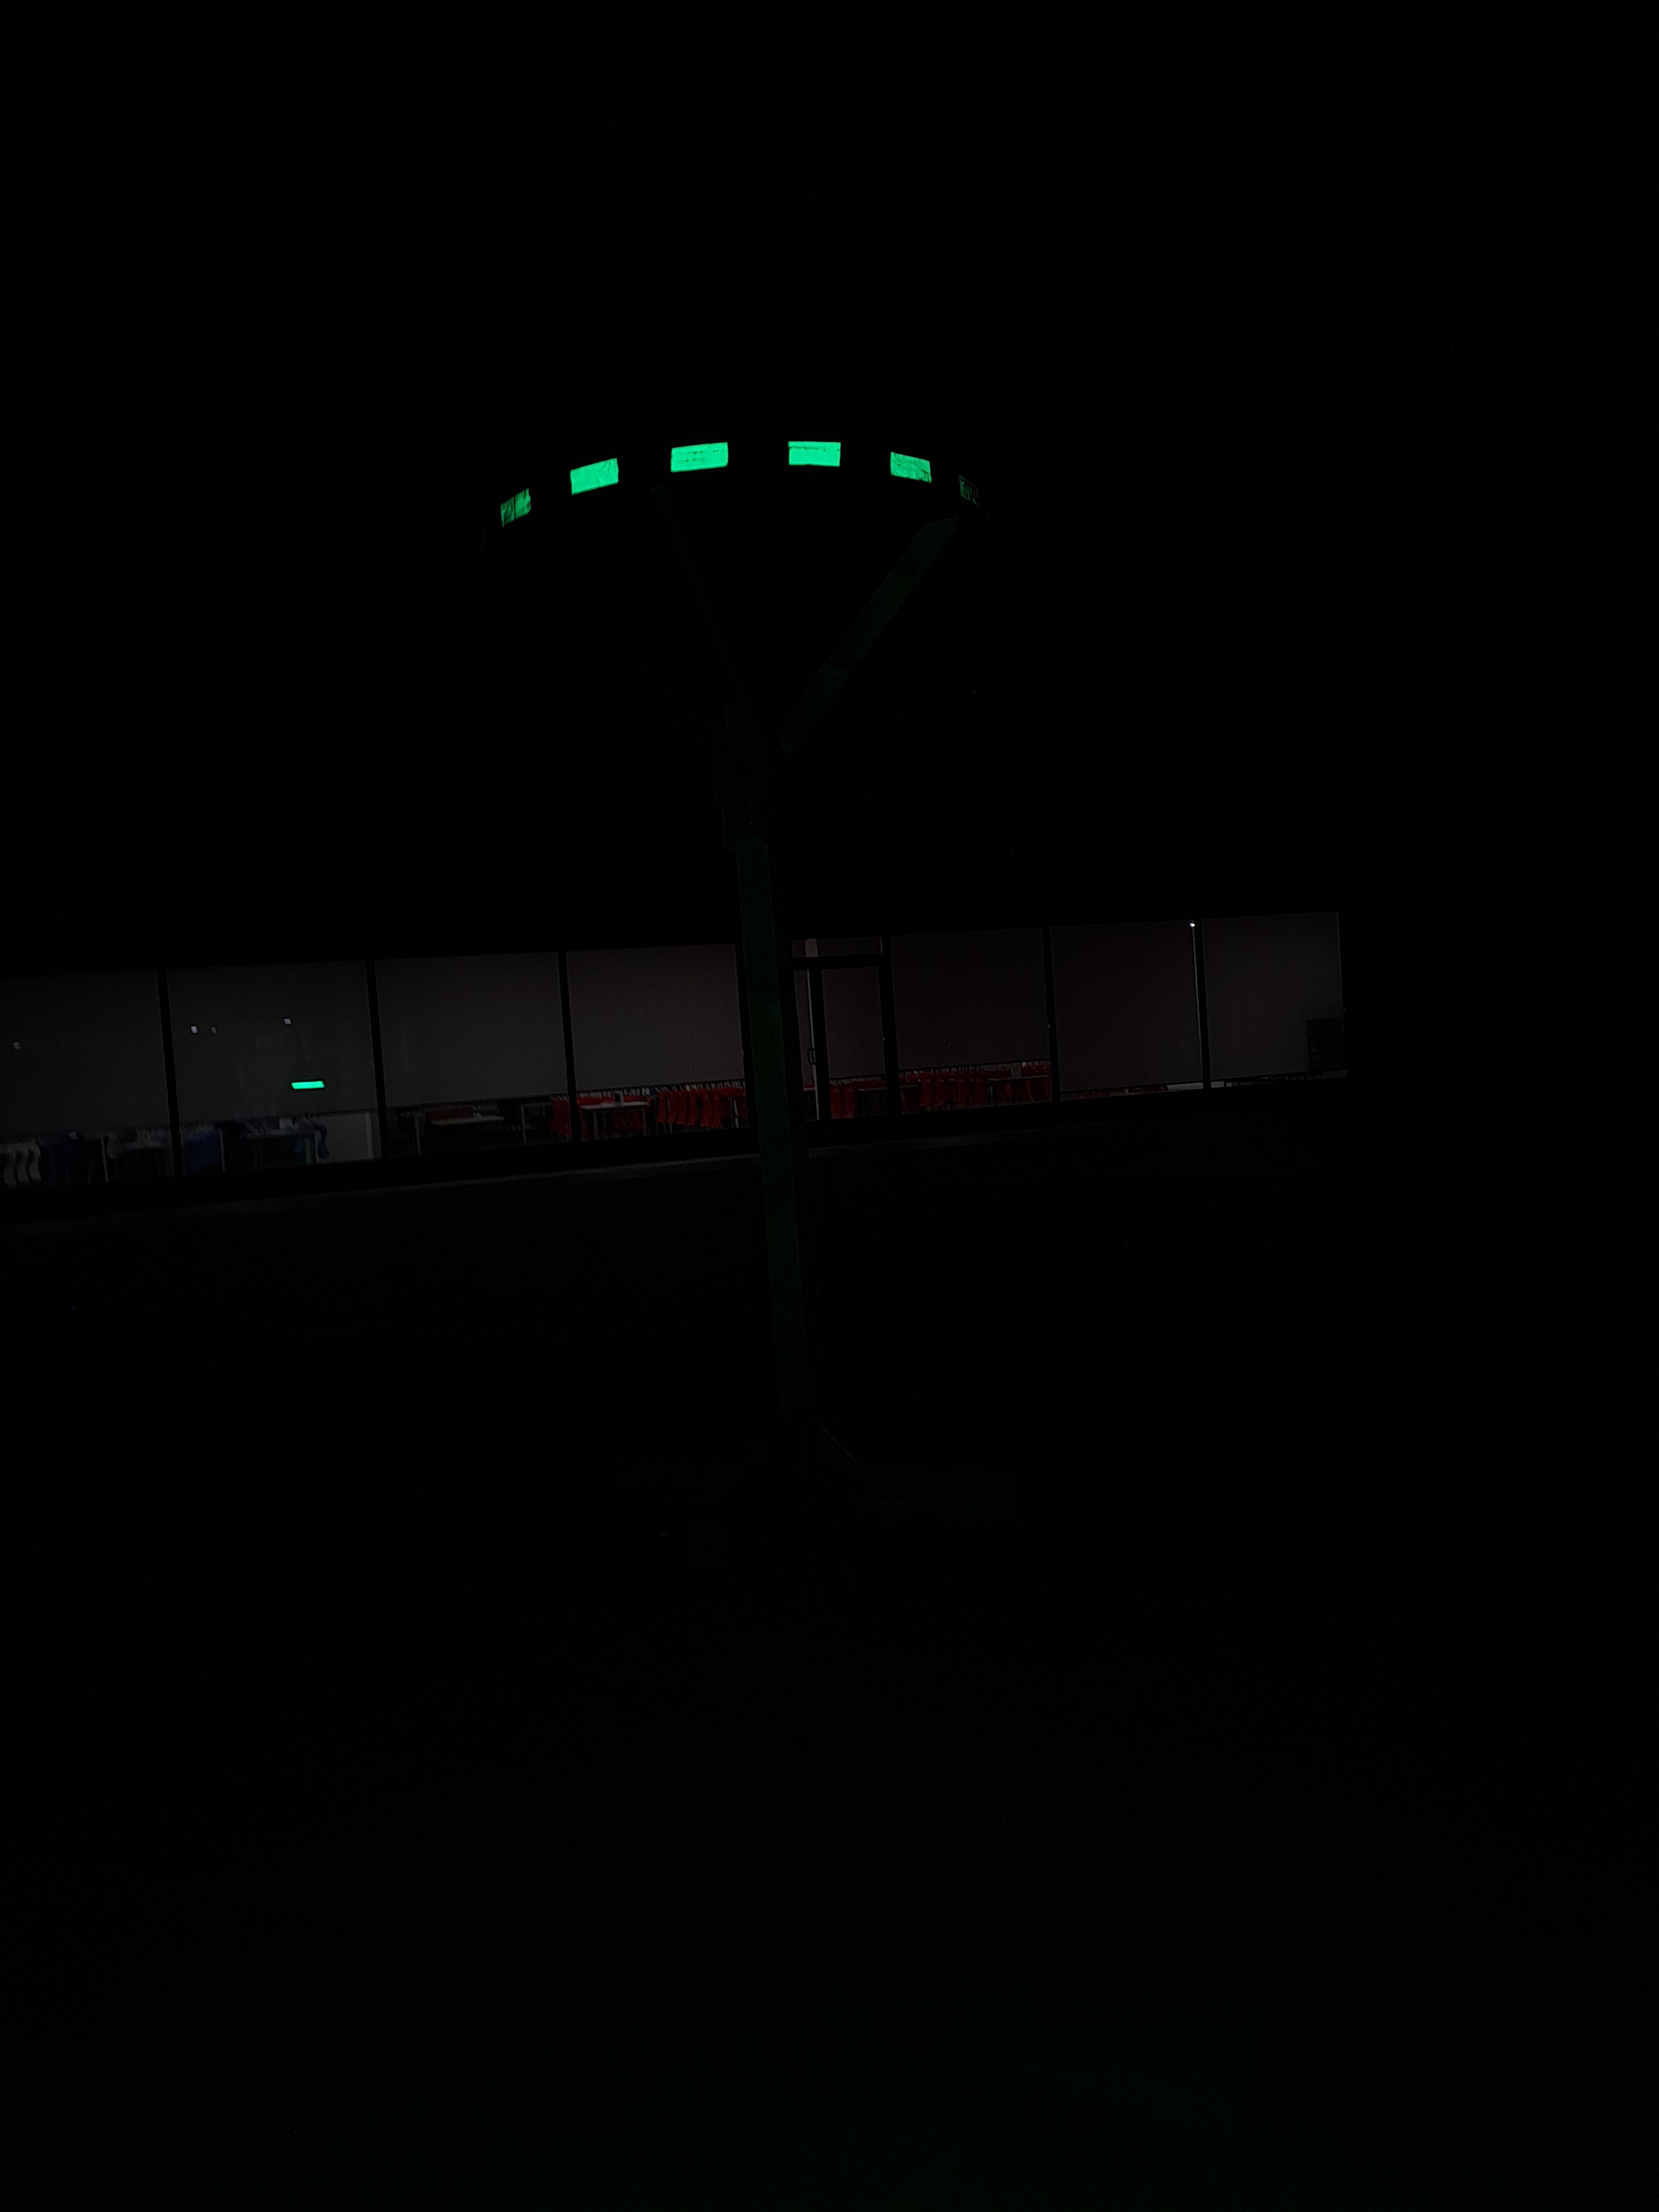hoop: (497, 435, 985, 517)
